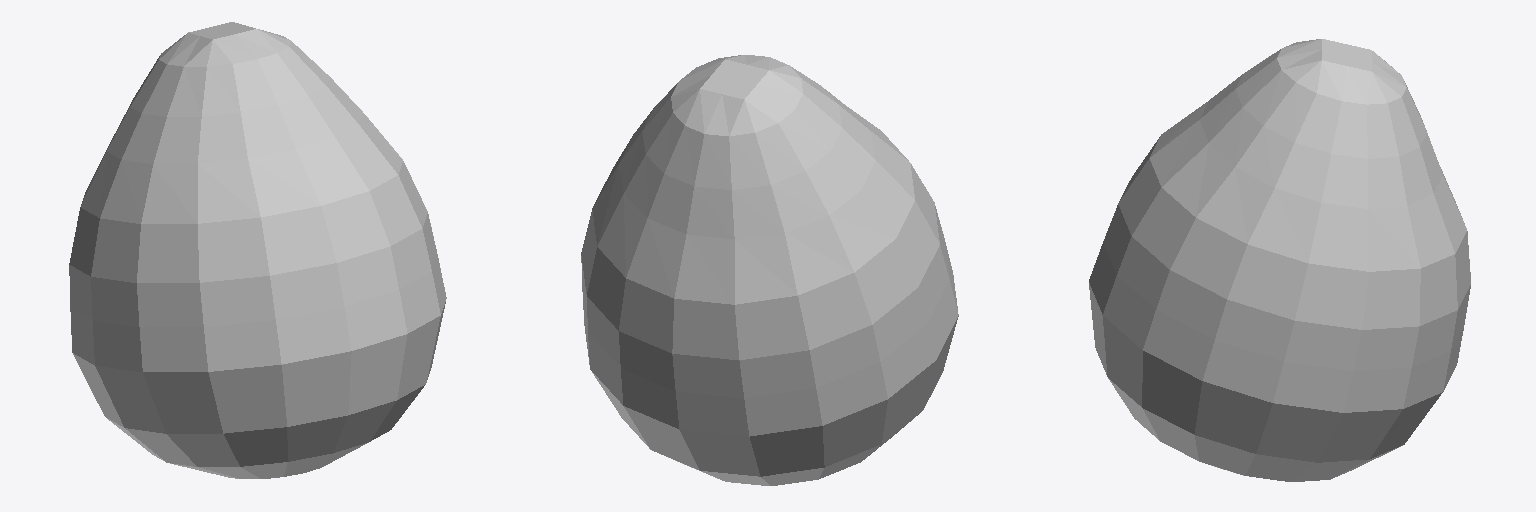
Rendered from Hand_Open_R.obj.
3 views of the same model, side by side, from view 1: azimuth 30°, elevation 25°; view 2: azimuth 150°, elevation 25°; view 3: azimuth 270°, elevation 25° (orthographic).
Visible parts, largest first — view 1: ???; view 2: ???; view 3: ???.
Boxes of the visible parts, x1,y1,x2,y2 form: ???: [69, 22, 446, 478]; ???: [581, 55, 958, 485]; ???: [1089, 39, 1470, 481].
Bounding box in the file's own units: 0.3543 × 0.4251 × 0.357.